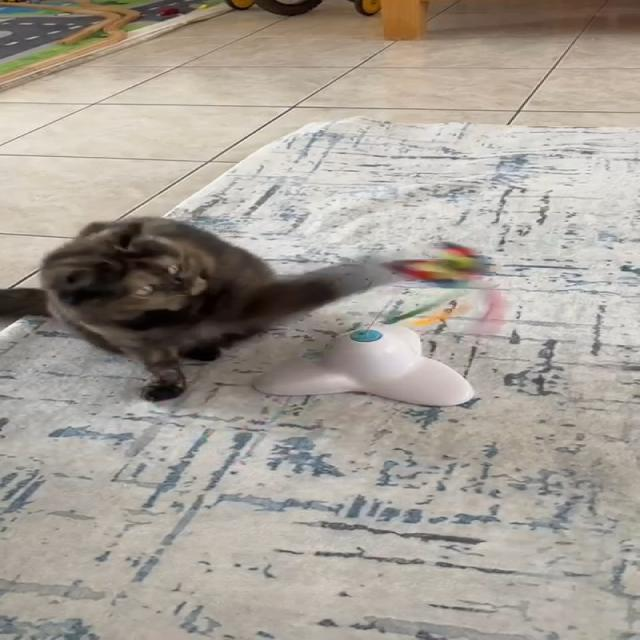authorized: (0, 215, 340, 402)
